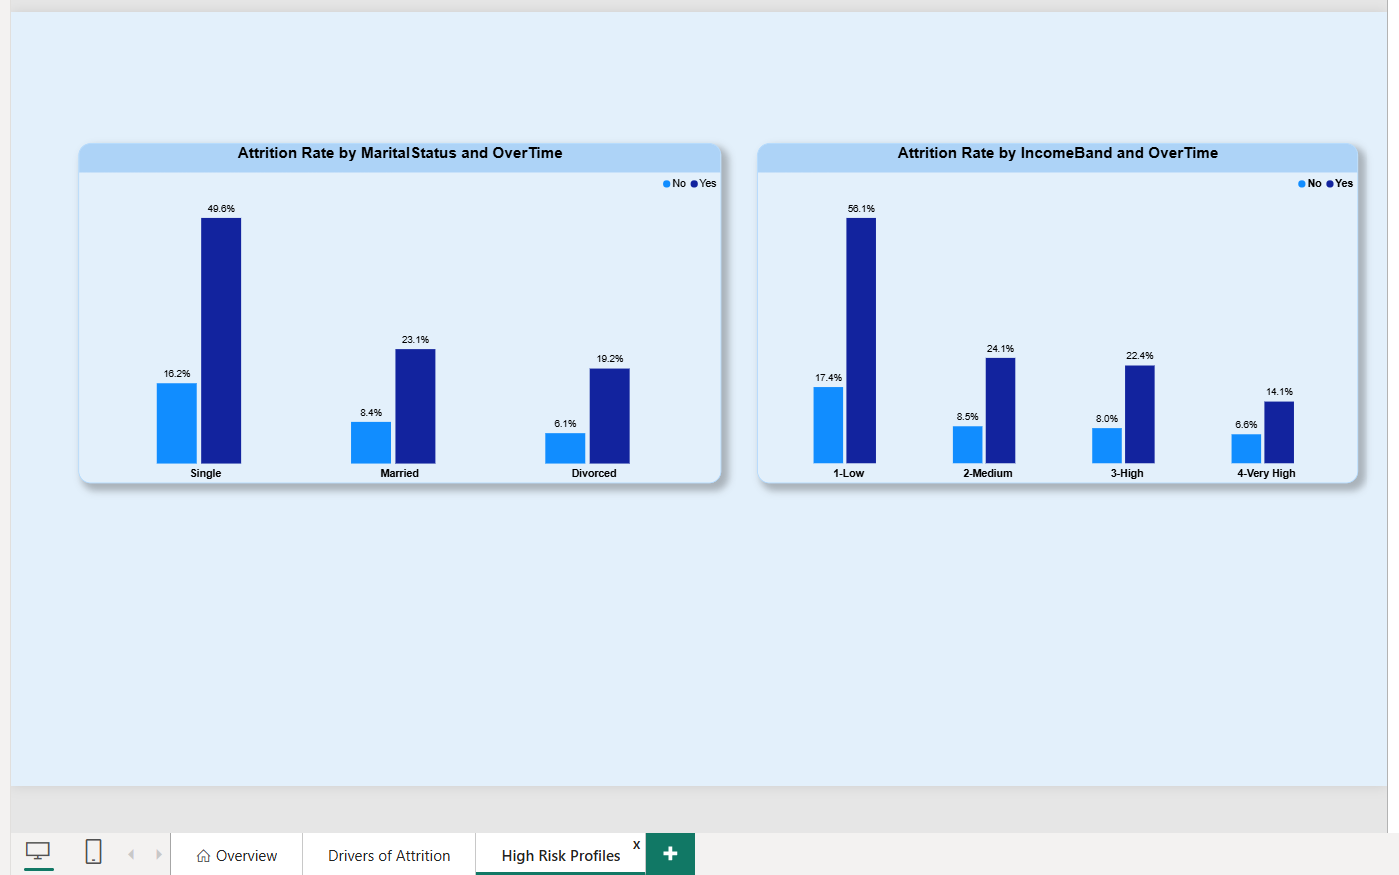

Layout of this report page (visuals, bound fields, positions):
{"tool":"powerbi","page":{"name":"High Risk Profiles","canvas":[1920,1080],"ordinal":2},"visuals":[{"type":"clusteredColumnChart","fields":{"Y":["Data.Attrition Rate"],"Category":["Data.MaritalStatus"],"Series":["Data.OverTime"]},"box":[94.2,183.1,896.5,474.4],"z":0},{"type":"clusteredColumnChart","fields":{"Y":["Data.Attrition Rate"],"Series":["Data.OverTime"],"Category":["Data.IncomeBand "]},"box":[1041.3,183.1,838,474],"z":1000}]}

Visuals, with their boxes on the page's 1920x1080 design canvas (x1, y1, x2, y2). These are canvas units, not pixel positions in the 1399x875 screenshot, which may show the page scaled, cropped or inside an application window:
clusteredColumnChart - Data.Attrition Rate x Data.MaritalStatus: 94:183:991:658
clusteredColumnChart - Data.Attrition Rate x Data.OverTime: 1041:183:1879:657
